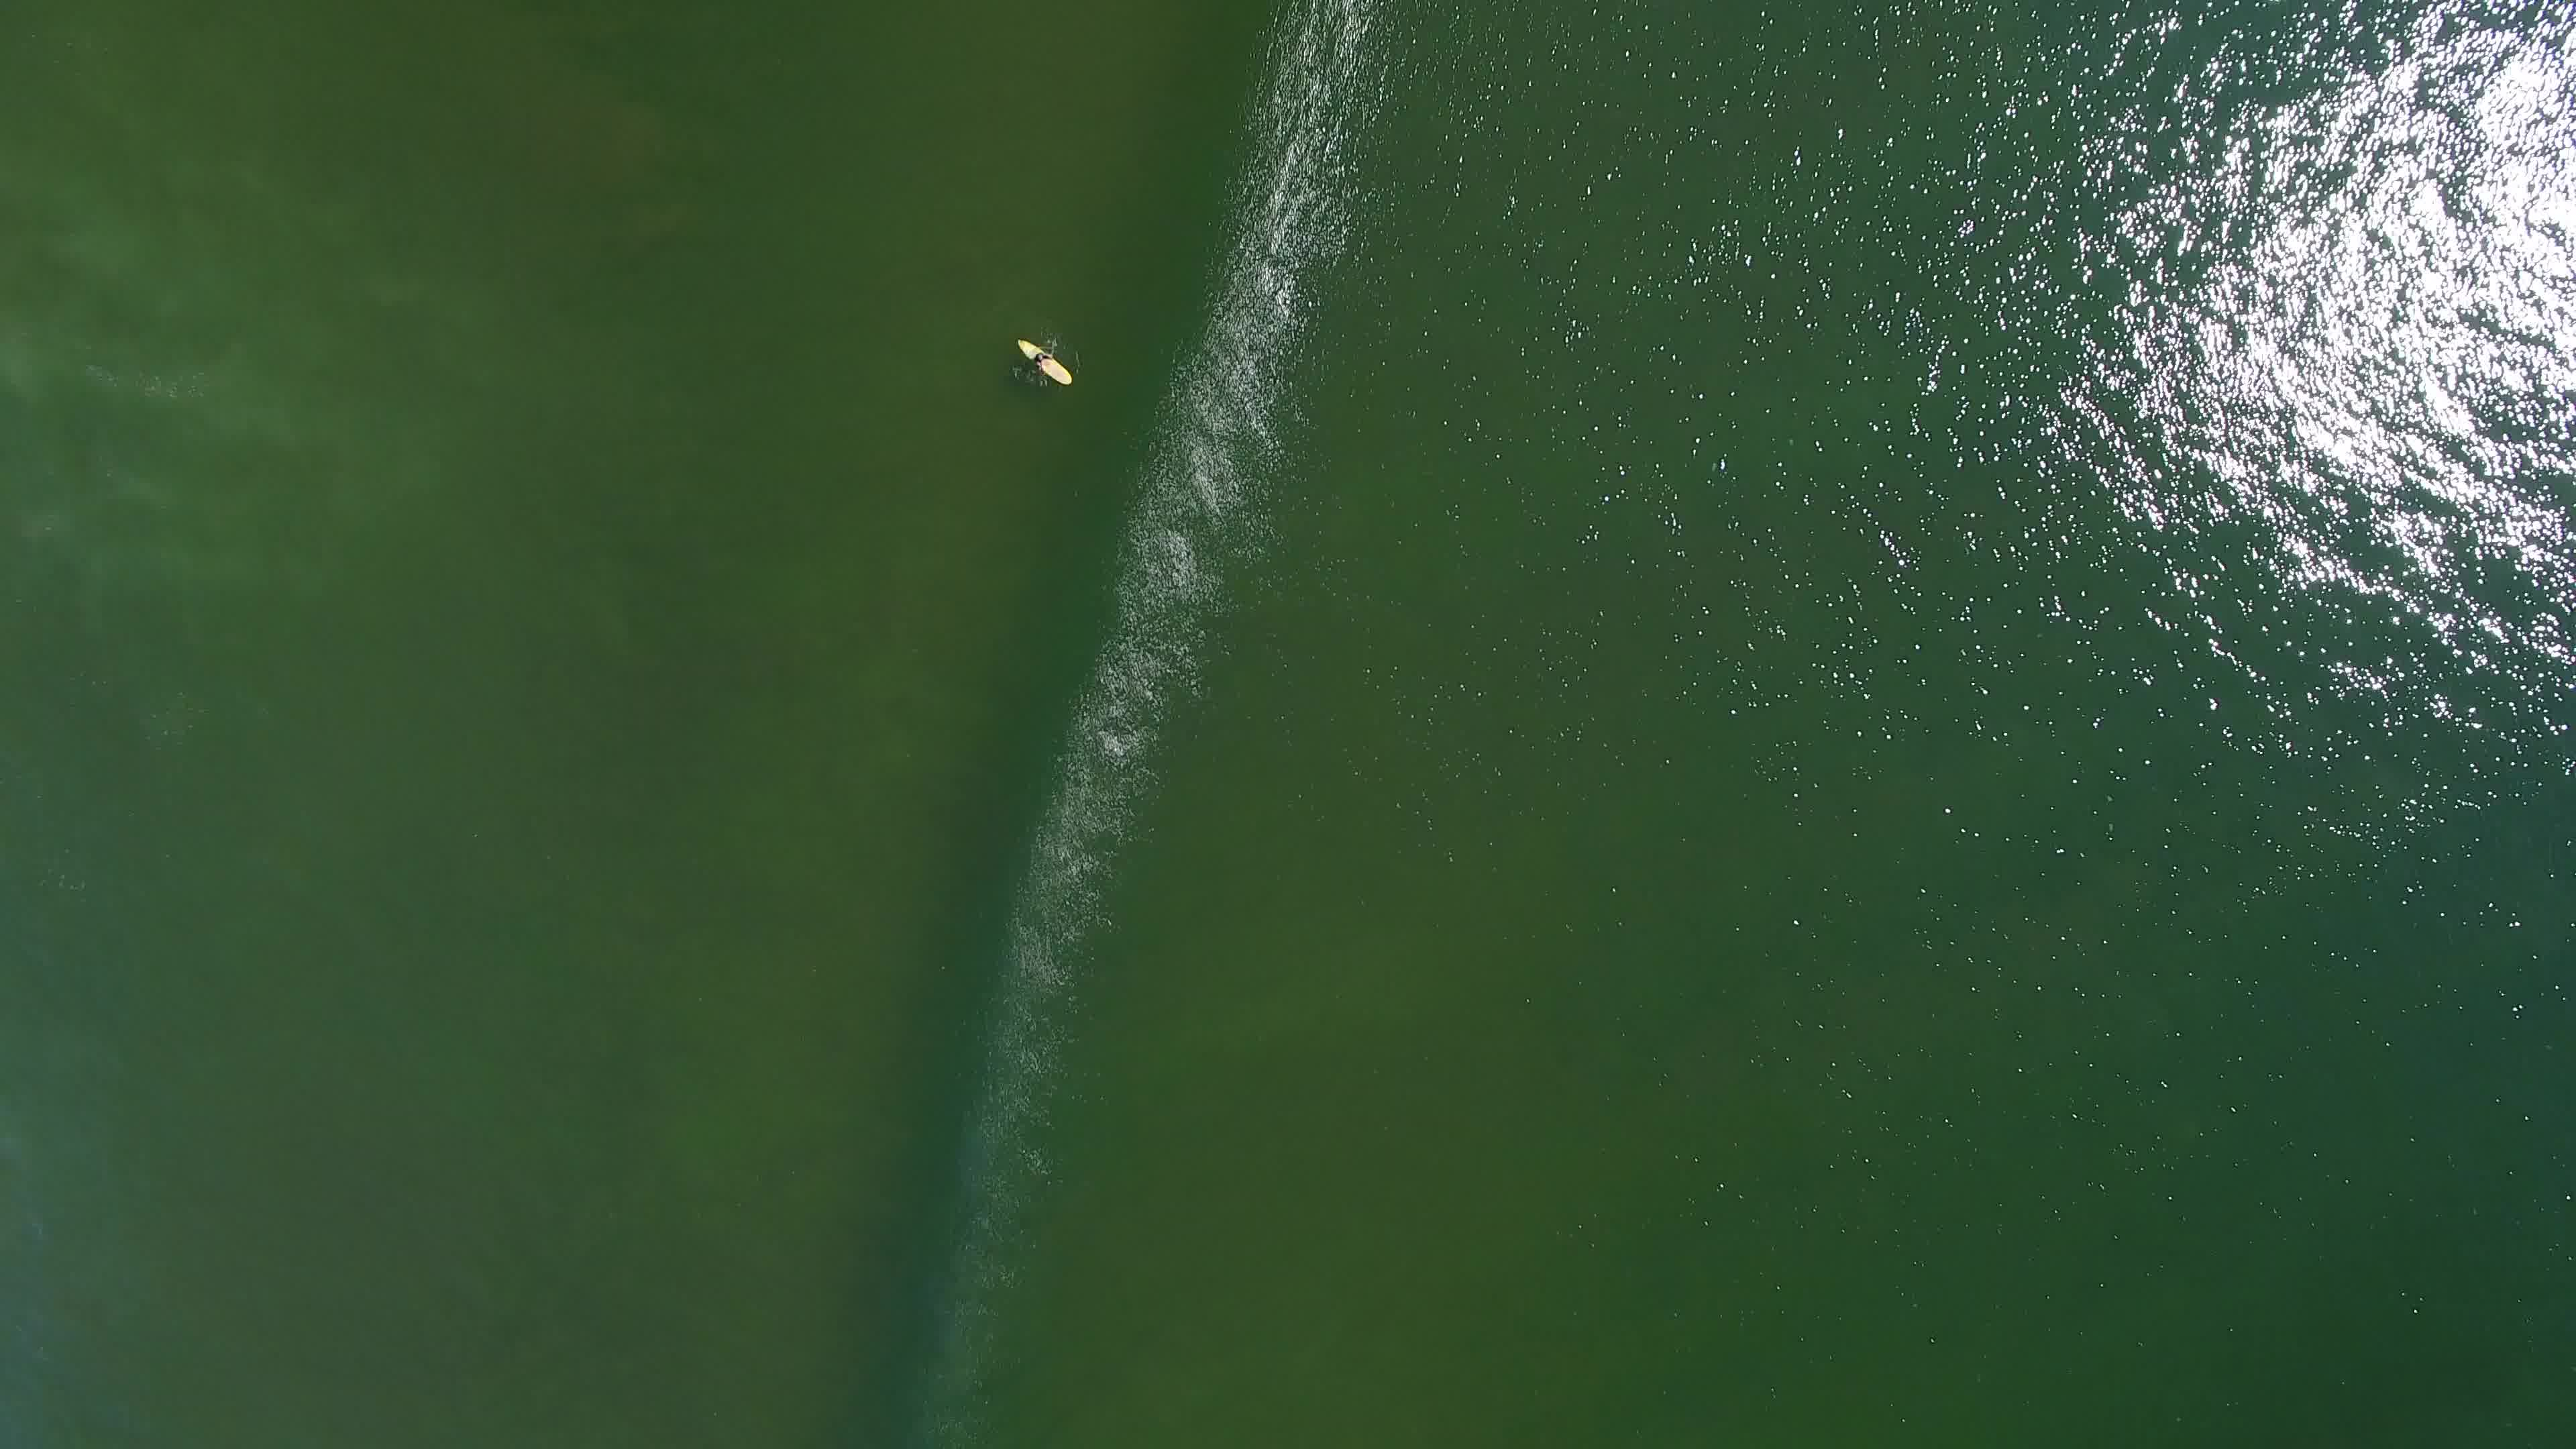surfer: (1005, 333, 1085, 393)
